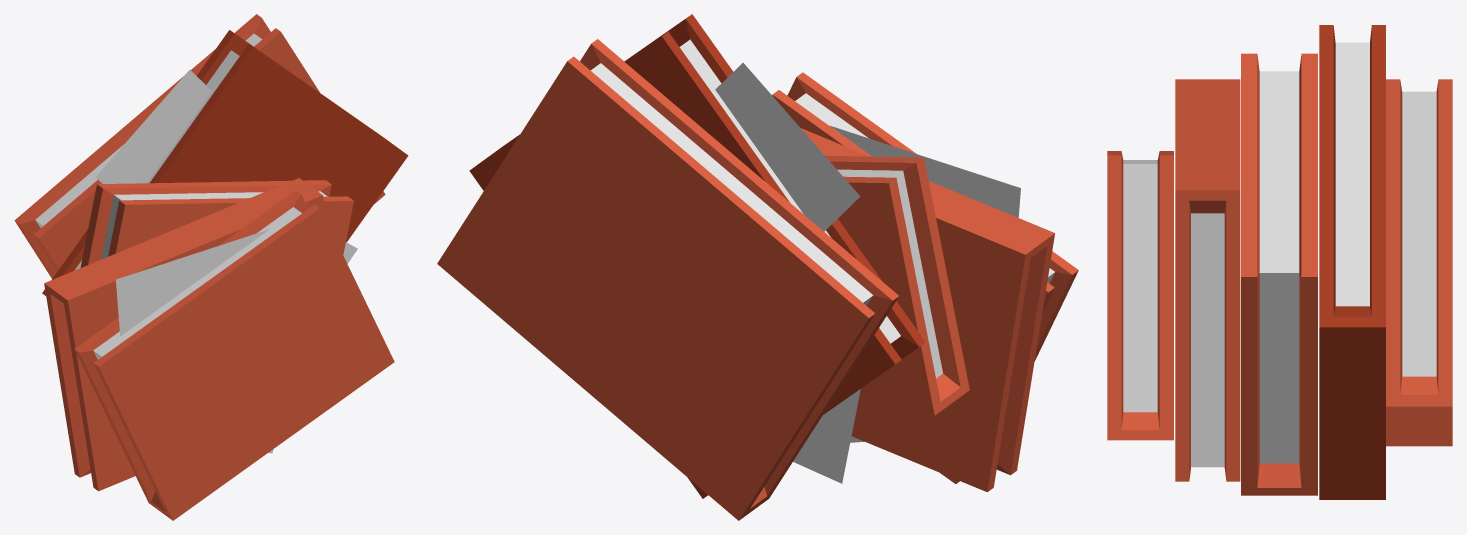
The model's file is Book_Pile_1.obj.
The picture shows the model from 3 angles, left to right: view 1: azimuth 30°, elevation 25°; view 2: azimuth 150°, elevation 25°; view 3: azimuth 270°, elevation 25°; orthographic projection. The views are drawn at different scales.
Visible parts, largest first — view 1: Book_Pile_1; view 2: Book_Pile_1; view 3: Book_Pile_1.
Part boxes in pixels (x1,y1,x2,y2): Book_Pile_1: [14, 14, 408, 520]; Book_Pile_1: [437, 14, 1078, 520]; Book_Pile_1: [1107, 25, 1452, 499].
Bounding box in the file's own units: 0.3761 × 0.3441 × 0.2087.
